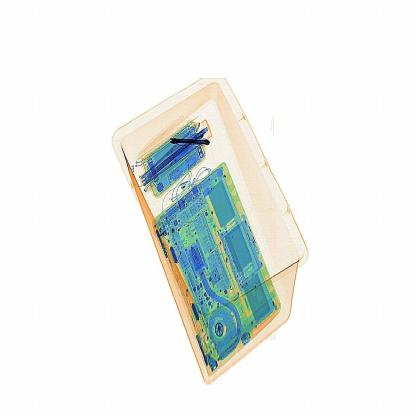knife: (160, 128, 223, 160)
